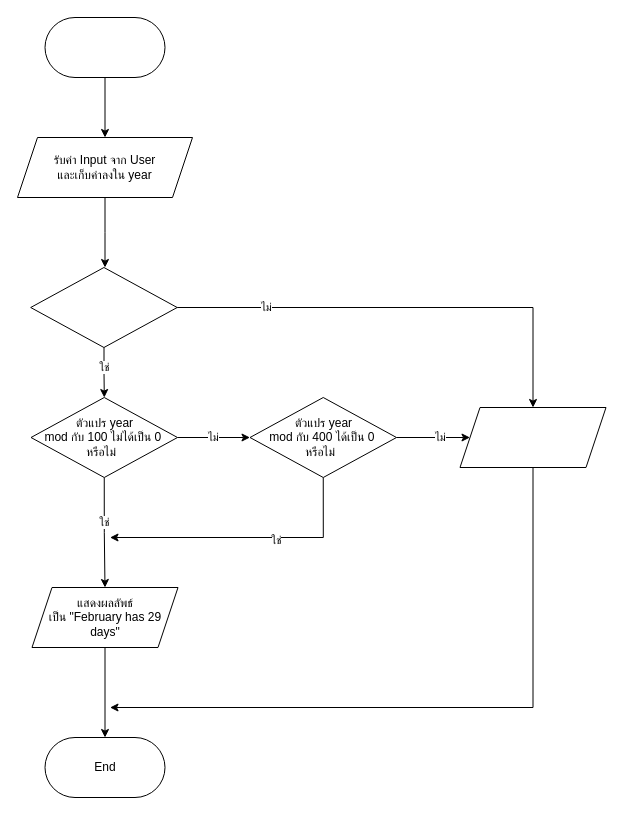
This 624x815 diagram has some shape labels left out. The box of each missing label's shape, as (x1, y1, x2, y2) in pixels:
Start: (44, 16, 165, 78)
ตัวแปร year mod กับ 4 ได้เป็น 0 หรือไม่: (30, 266, 177, 348)
แสดงผลลัพธ์ เป็น "February has 28 days": (459, 406, 606, 468)
